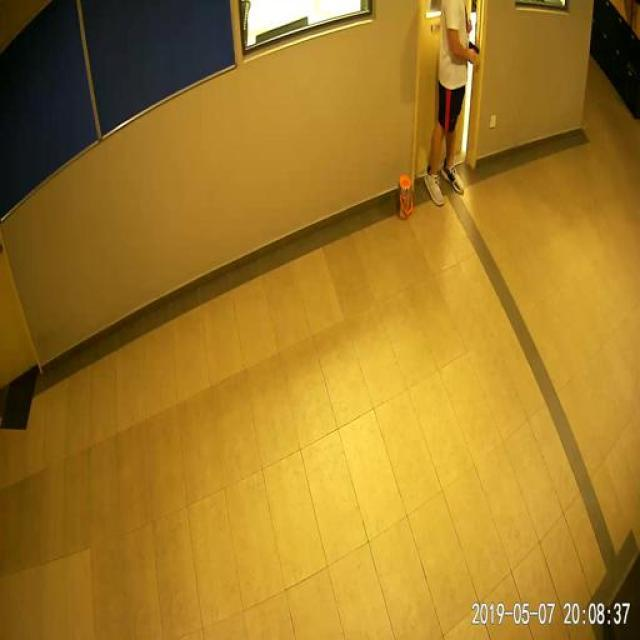Gun: (464, 39, 484, 63)
